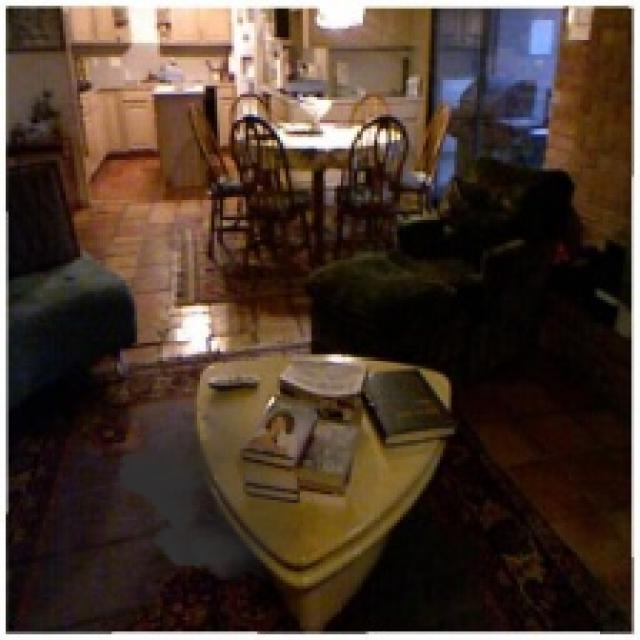Smoke: (109, 386, 328, 586)
